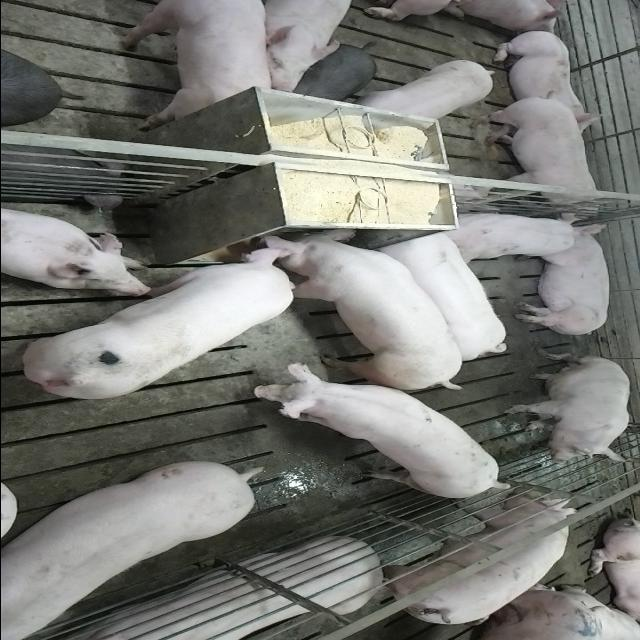Feeding: (18, 241, 300, 402), (247, 222, 465, 388)
Lateral_lying: (512, 221, 612, 338)
Sitting: (502, 354, 632, 462)
Standing: (0, 464, 258, 640), (246, 367, 509, 503), (372, 498, 578, 631), (120, 2, 272, 128), (376, 228, 512, 362), (468, 94, 609, 216), (352, 57, 498, 125), (262, 0, 356, 93), (288, 43, 378, 103)
Sternal_lying: (41, 540, 381, 640), (0, 205, 151, 293), (486, 29, 606, 126), (439, 208, 591, 260)
